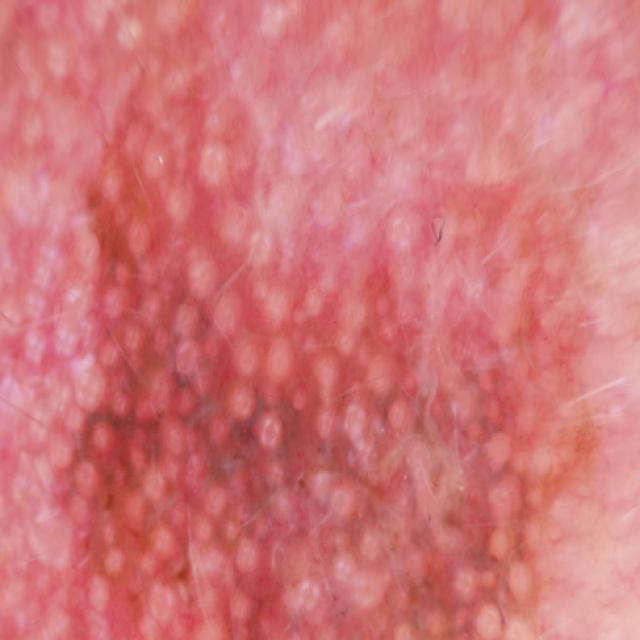Keratosis: (113, 239, 405, 640)
